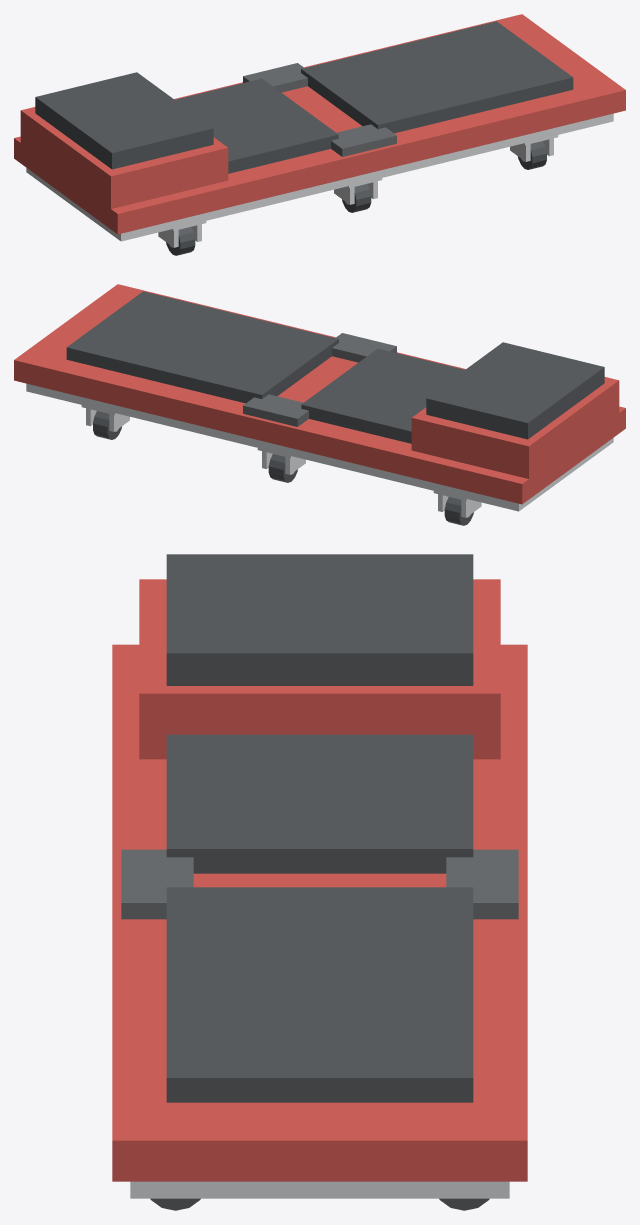
The model's file is car-repair-garage-and-mot-workshop-car-repair-garage-a-d09e6208__34028.glb.
3 views of the same model, one above another, from view 1: azimuth 30°, elevation 25°; view 2: azimuth 150°, elevation 25°; view 3: azimuth 270°, elevation 25° (orthographic). The views are drawn at different scales.
Visible parts, largest first — view 1: car-repair-garage-and-mot-workshop-creeper-board; view 2: car-repair-garage-and-mot-workshop-creeper-board; view 3: car-repair-garage-and-mot-workshop-creeper-board.
Boxes of the visible parts, x1=… form: car-repair-garage-and-mot-workshop-creeper-board: x1=14, y1=14, x2=625, y2=255; car-repair-garage-and-mot-workshop-creeper-board: x1=14, y1=284, x2=625, y2=525; car-repair-garage-and-mot-workshop-creeper-board: x1=112, y1=554, x2=527, y2=1210.
Bounding box in the file's own units: 1.3 × 0.29 × 0.4599.
